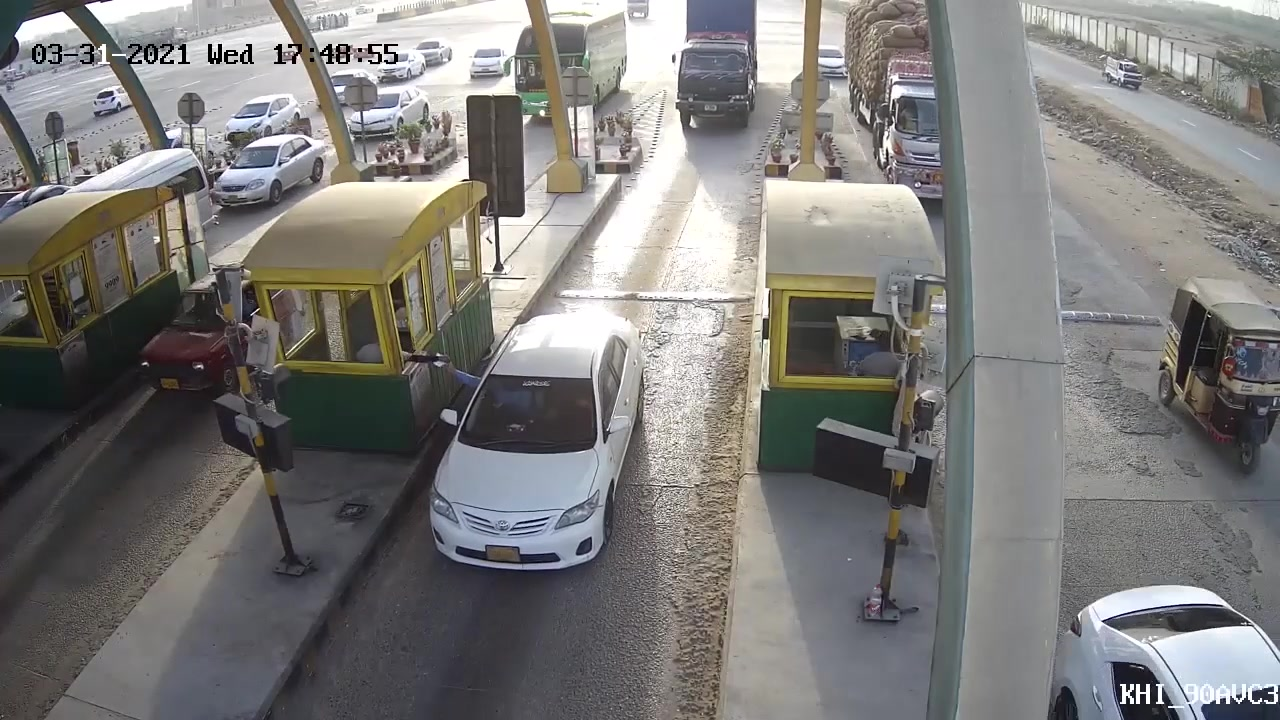F1: (416, 309, 648, 585)
